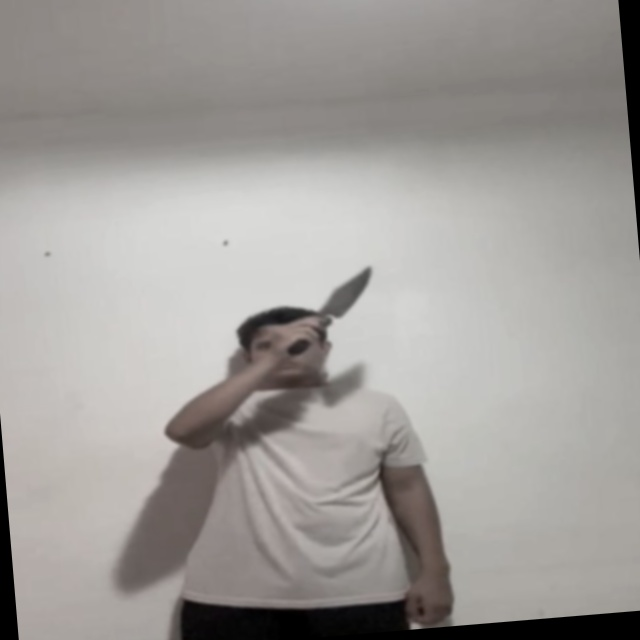Sharp-Object: (314, 266, 379, 319)
